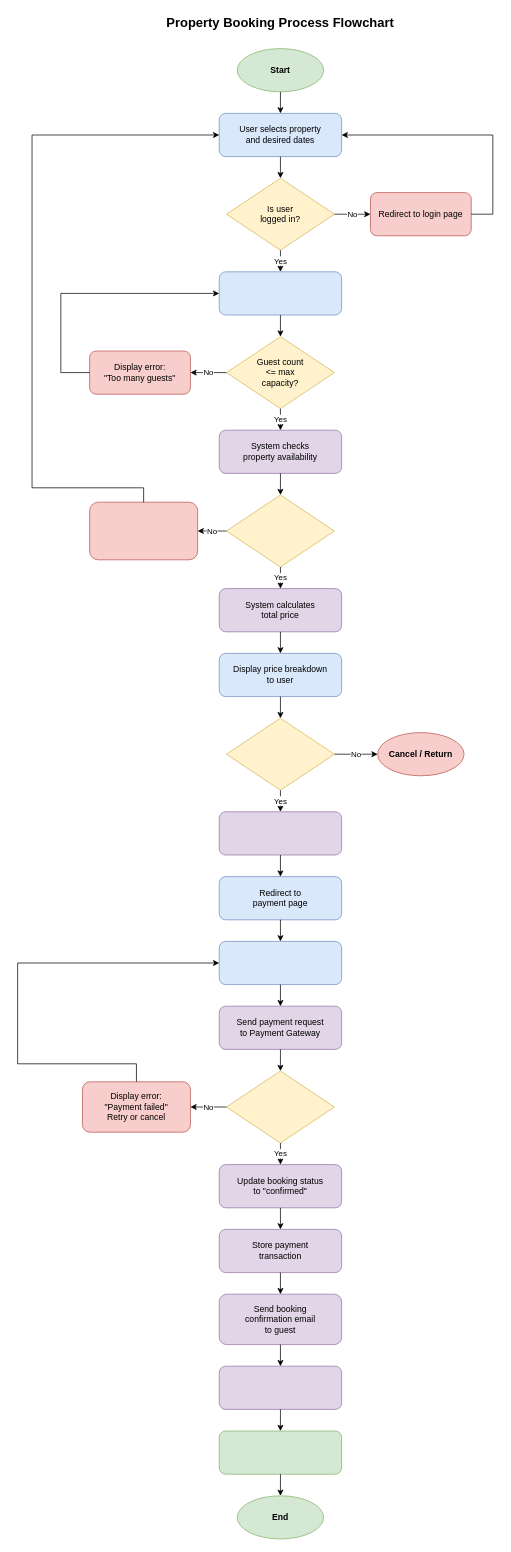
This 511x1552 diagram has some shape labels left out. The shapes that lost their labels are listed below. From the top down, each one's box as (x1, y1, x2, y2) in pixels, then its label:
(219, 271, 342, 315): User enters number of guests
(89, 501, 198, 560): Display error: "Property not available for these dates"
(226, 494, 334, 567): Property available?
(226, 717, 334, 790): User confirms booking?
(219, 811, 342, 855): Create booking record (status: pending)
(219, 941, 342, 985): User enters payment details
(226, 1070, 334, 1143): Payment successful?
(219, 1365, 342, 1409): Send booking notification to host
(219, 1430, 342, 1474): Display success message: "Booking confirmed!"
